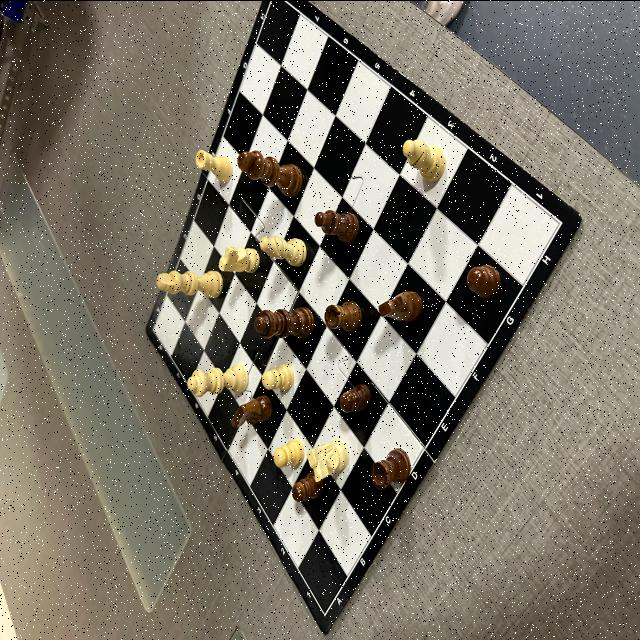Black-Bishop: (314, 210, 358, 240)
Black-King: (237, 151, 303, 197)
Black-Knight: (378, 290, 422, 322), (230, 395, 272, 427)
Black-Pawn: (467, 264, 501, 298), (292, 471, 324, 501), (340, 382, 371, 412)
Black-Queen: (254, 306, 314, 340)
Black-Rook: (370, 447, 410, 487), (324, 300, 362, 331)
White-Bishop: (402, 137, 446, 181), (260, 234, 306, 266)
White-King: (157, 270, 223, 298)
White-Knight: (306, 437, 350, 481), (218, 246, 260, 272)
White-Pawn: (274, 437, 304, 466), (262, 364, 294, 390)
White-Queen: (188, 364, 247, 396)
White-Rook: (196, 149, 233, 182)
